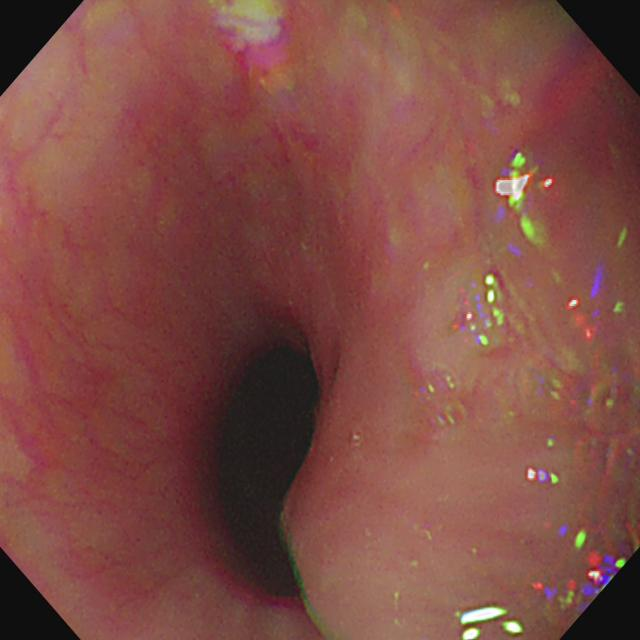E: (206, 332, 324, 611)
U: (497, 150, 540, 245), (216, 2, 290, 55), (461, 274, 506, 352), (575, 533, 625, 598), (455, 606, 525, 639), (566, 297, 596, 344), (533, 578, 579, 606), (526, 470, 560, 485)
